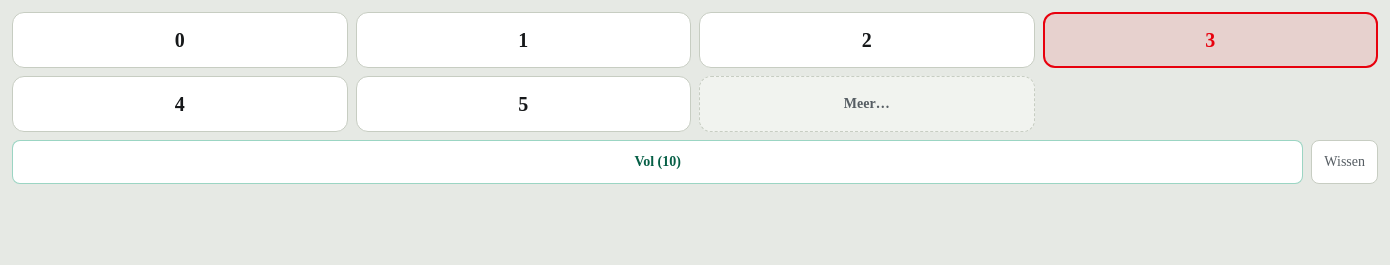
Test: meer invoeren › laat het handmatige veld zijn eigen Vol en Wissen meebrengen
Expected: the number of buttons "Vol (10)" is 1, [12, 140, 1303, 184]
Click the button with aria-label "Meer invoeren" at point(867, 104), box [699, 76, 1034, 132]
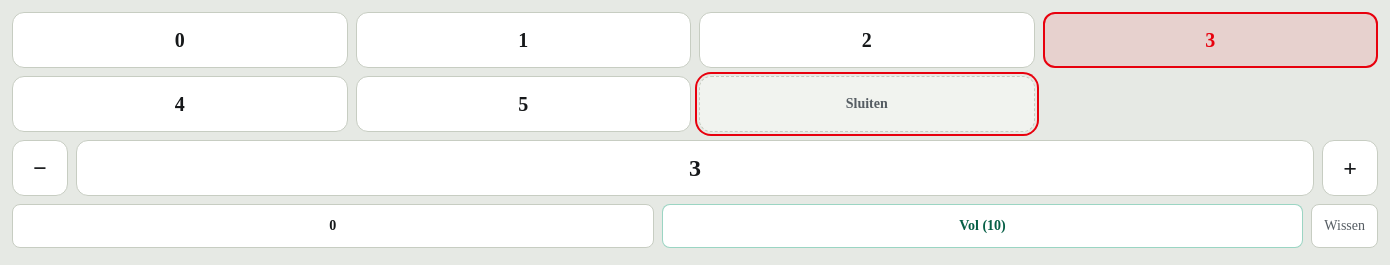
Expected: the number of buttons "Vol (10)" is 1, [662, 204, 1303, 248]
Expected: the number of buttons "Wissen" is 1, [1311, 204, 1378, 248]
